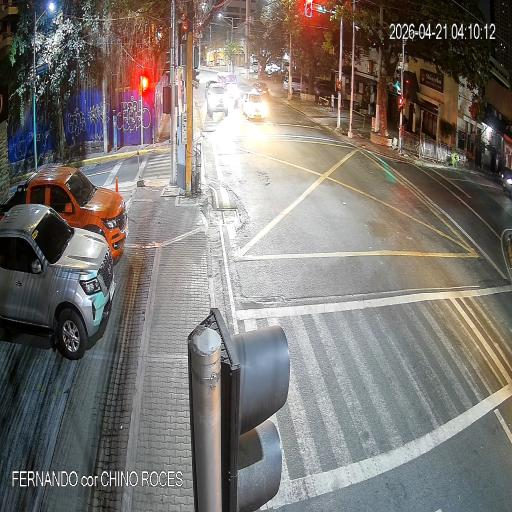Car: (1, 203, 130, 363), (25, 164, 130, 272), (243, 92, 272, 124), (208, 82, 228, 123)
